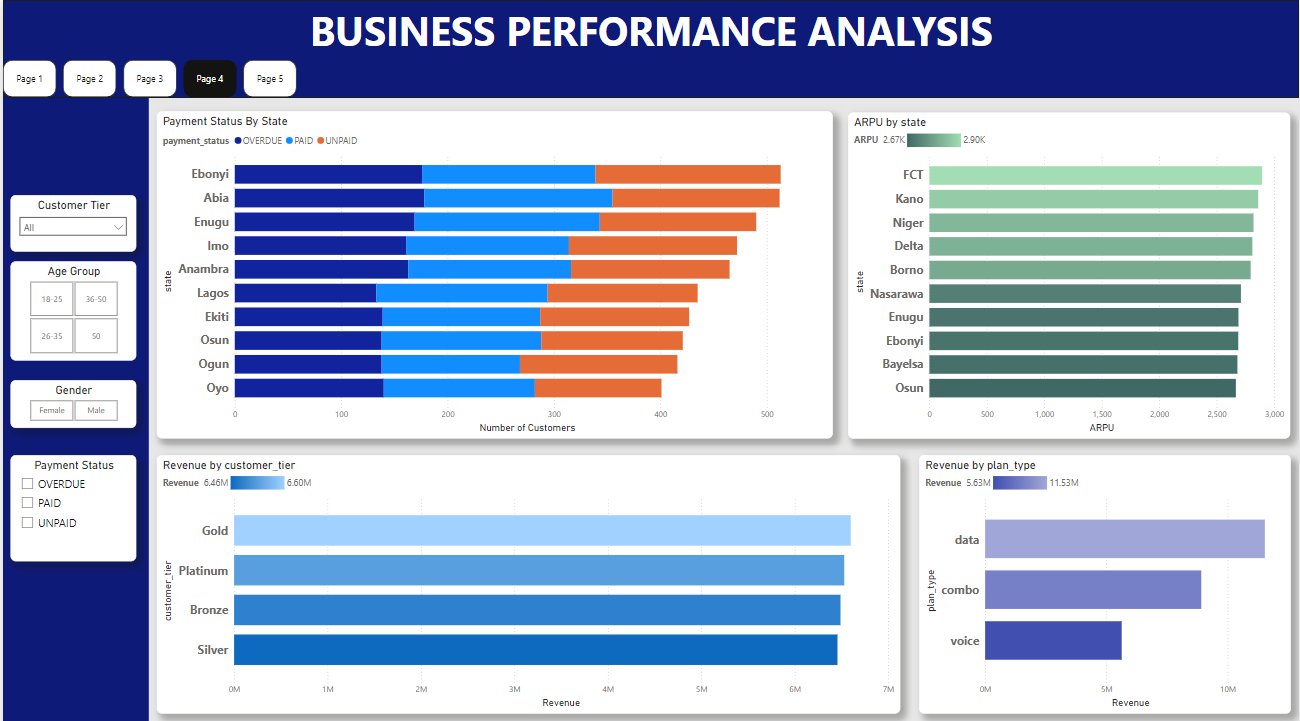

This screenshot's page, from the dashboard's own definition file:
{"tool":"powerbi","page":{"name":"Page 4","canvas":[1920,1080],"ordinal":3},"visuals":[{"type":"textbox","box":[0,107,216.1,973.6],"z":0},{"type":"slicer","title":"Payment Status","fields":{"Values":["mtn_final_telecom_cleaned_data (2).payment_status"]},"box":[11,673.7,186.7,157.4],"z":2000},{"type":"slicer","title":"Customer Tier","fields":{"Values":["mtn_final_telecom_cleaned_data (2).customer_tier"]},"box":[10.2,288.3,186.1,83.8],"z":4000},{"type":"slicer","title":"Age Group","fields":{"Values":["mtn_final_telecom_cleaned_data (2).age_group"]},"box":[10.2,386.5,186.1,147.2],"z":5000},{"type":"slicer","title":"Gender","fields":{"Values":["mtn_final_telecom_cleaned_data (2).gender"]},"box":[10.2,562.4,186.1,71.6],"z":6000},{"type":"clusteredBarChart","fields":{"Y":["Sum(mtn_final_telecom_cleaned_data (2).bill_amount)"],"Category":["mtn_final_telecom_cleaned_data (2).plan_type"]},"box":[1357.4,674.1,550,383.3],"z":7000},{"type":"clusteredBarChart","fields":{"Y":["Sum(mtn_final_telecom_cleaned_data (2).bill_amount)"],"Category":["mtn_final_telecom_cleaned_data (2).customer_tier"]},"box":[227.8,674.1,1101.9,383.3],"z":8000},{"type":"clusteredBarChart","fields":{"Y":["mtn_final_telecom_cleaned_data (2).ARPU"],"Category":["mtn_final_telecom_cleaned_data (2).state"]},"box":[1251.9,166.7,655.6,483.3],"z":9000},{"type":"barChart","title":"Payment Status By State","fields":{"Y":["Count(mtn_final_telecom_cleaned_data (2).customer_id)"],"Category":["mtn_final_telecom_cleaned_data (2).state"],"Series":["mtn_final_telecom_cleaned_data (2).payment_status"]},"box":[227.8,164.8,1001.9,485.2],"z":10000},{"type":"textbox","box":[0,0,1920.4,144.1],"z":11000},{"type":"pageNavigator","box":[0,88.9,437,55.6],"z":12000}]}

Visuals, with their boxes in screenshot pixels (x1, y1, x2, y2), scaled from the page's 1920x1080 canvas onto the 1300x721 screenshot:
textbox: x1=0, y1=71, x2=146, y2=720
"Payment Status" slicer: x1=7, y1=450, x2=134, y2=555
"Customer Tier" slicer: x1=7, y1=192, x2=133, y2=248
"Age Group" slicer: x1=7, y1=258, x2=133, y2=356
"Gender" slicer: x1=7, y1=375, x2=133, y2=423
clusteredBarChart - Sum(mtn_final_telecom_cleaned_data (2).bill_amount) x mtn_final_telecom_cleaned_data (2).plan_type: x1=919, y1=450, x2=1291, y2=706
clusteredBarChart - Sum(mtn_final_telecom_cleaned_data (2).bill_amount) x mtn_final_telecom_cleaned_data (2).customer_tier: x1=154, y1=450, x2=900, y2=706
clusteredBarChart - mtn_final_telecom_cleaned_data (2).ARPU x mtn_final_telecom_cleaned_data (2).state: x1=848, y1=111, x2=1292, y2=434
"Payment Status By State" barChart: x1=154, y1=110, x2=833, y2=434
textbox: x1=0, y1=0, x2=1299, y2=96
pageNavigator: x1=0, y1=59, x2=296, y2=96
